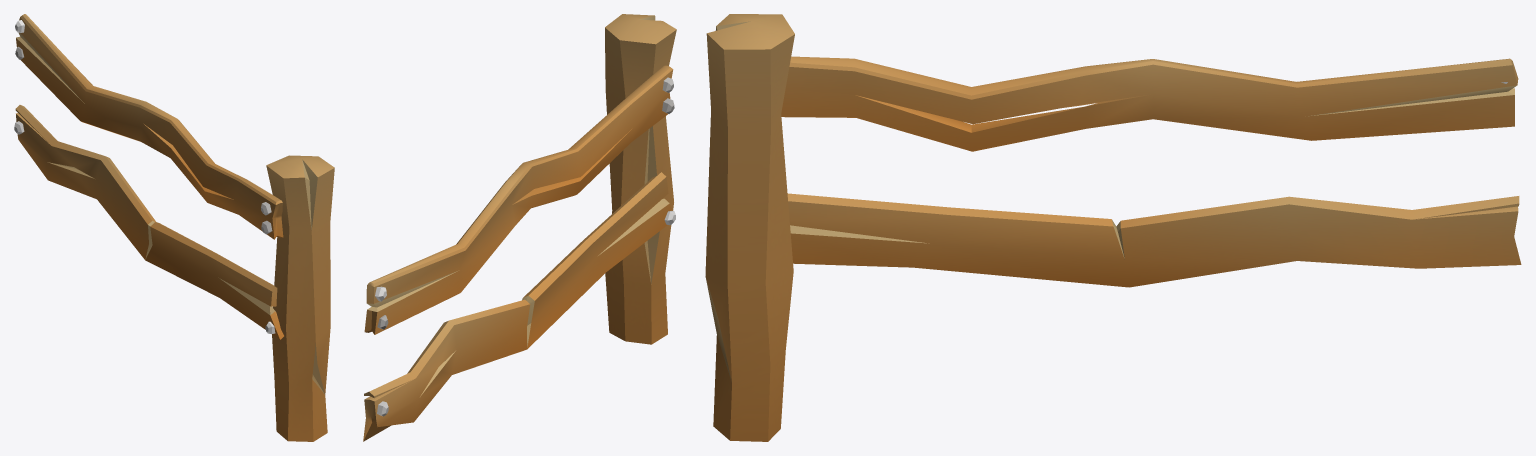
The model's file is valla10.fbx.
3 views of the same model, side by side, from view 1: azimuth 30°, elevation 25°; view 2: azimuth 150°, elevation 25°; view 3: azimuth 270°, elevation 25° (orthographic). The views are drawn at different scales.
Parts seen in each view (by area): view 1: VallaLargaDerecha; view 2: VallaLargaDerecha; view 3: VallaLargaDerecha.
Boxes of the visible parts, x1,y1,x2,y2 form: VallaLargaDerecha: [14, 14, 334, 441]; VallaLargaDerecha: [363, 14, 676, 441]; VallaLargaDerecha: [705, 14, 1521, 441].
Size of the model in its own units: 137 by 611 by 1113.
